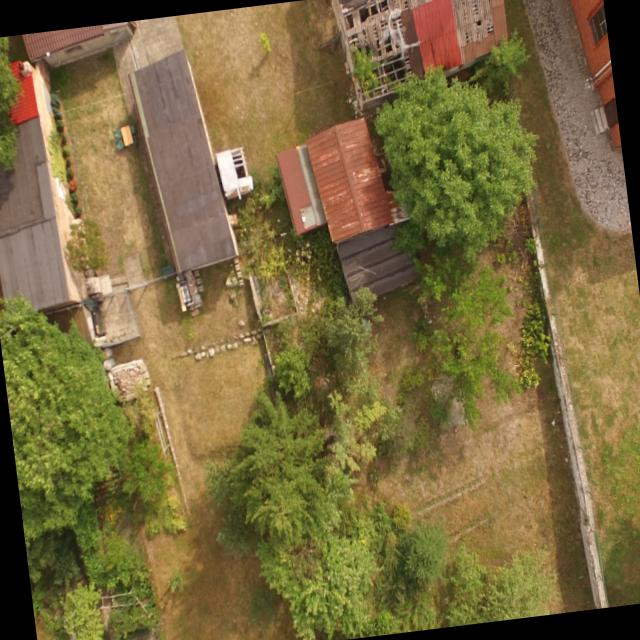trees: (226, 353, 399, 640), (396, 76, 546, 256), (0, 312, 124, 500), (418, 248, 545, 430), (22, 498, 132, 612), (412, 564, 517, 630), (0, 35, 30, 180), (51, 615, 136, 640)
